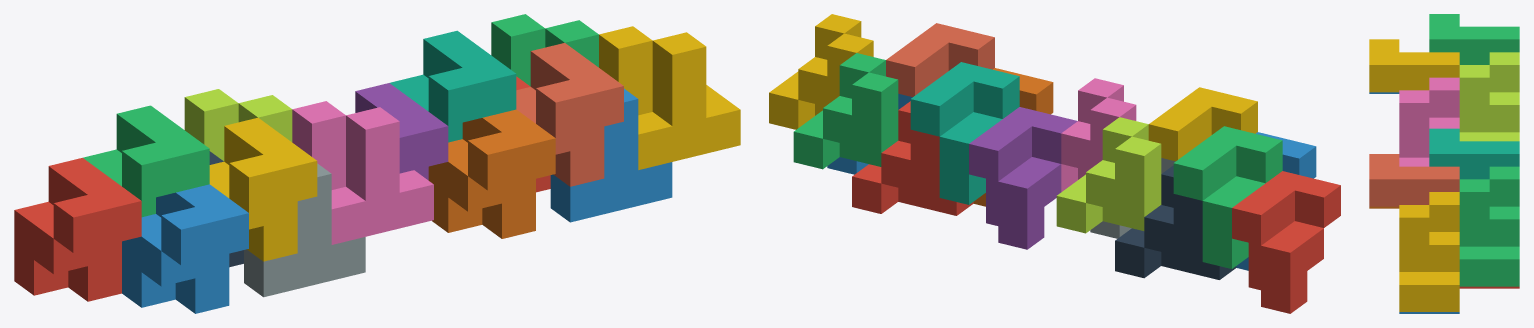
File: tiling.obj
3 renders of one model, left to right at view 1: azimuth 30°, elevation 25°; view 2: azimuth 150°, elevation 25°; view 3: azimuth 270°, elevation 25°, orthographic. The views are drawn at different scales.
Parts seen in each view (by area): view 1: copy_1_domain_1, copy_2_domain_8, copy_2_domain_4, copy_1_domain_2, copy_1_domain_6, copy_1_domain_8, copy_1_domain_4, copy_1_domain_7, copy_1_domain_3, copy_2_domain_6, copy_2_domain_2, copy_1_domain_5 (+2 smaller); view 2: copy_1_domain_1, copy_1_domain_5, copy_1_domain_7, copy_1_domain_3, copy_2_domain_3, copy_2_domain_7, copy_2_domain_5, copy_2_domain_1, copy_2_domain_8, copy_1_domain_4, copy_1_domain_8, copy_2_domain_4 (+4 smaller); view 3: copy_2_domain_7, copy_2_domain_8, copy_2_domain_3, copy_2_domain_4, copy_1_domain_4, copy_1_domain_8, copy_1_domain_3, copy_1_domain_7, copy_2_domain_5, copy_2_domain_6.
Part boxes in pixels (x1,y1,x2,y2): copy_1_domain_1: (14,158,141,301); copy_2_domain_8: (599,26,740,169); copy_2_domain_4: (292,101,433,244); copy_1_domain_2: (122,184,248,313); copy_1_domain_6: (428,109,555,238); copy_1_domain_8: (516,43,623,186); copy_1_domain_4: (209,117,317,261); copy_1_domain_7: (390,30,516,142); copy_1_domain_3: (83,105,209,217); copy_2_domain_6: (550,88,672,222); copy_2_domain_2: (244,163,365,297); copy_1_domain_5: (355,83,448,180); copy_1_domain_1: (1232,171,1340,313); copy_1_domain_5: (969,107,1077,249); copy_1_domain_7: (910,62,1019,204); copy_1_domain_3: (1173,126,1282,268); copy_2_domain_3: (1056,117,1161,233); copy_2_domain_7: (793,53,898,169); copy_2_domain_5: (852,101,973,215); copy_2_domain_1: (1115,165,1236,279); copy_2_domain_8: (769,14,873,129); copy_1_domain_4: (1148,87,1257,161); copy_1_domain_8: (886,23,994,96); copy_2_domain_4: (1061,78,1136,191); copy_2_domain_7: (1459,166,1519,286); copy_2_domain_8: (1399,192,1459,311); copy_2_domain_3: (1459,52,1519,141); copy_2_domain_4: (1399,77,1459,166); copy_1_domain_4: (1369,39,1459,92); copy_1_domain_8: (1369,154,1459,206); copy_1_domain_3: (1429,14,1519,64); copy_1_domain_7: (1429,128,1519,179); copy_2_domain_5: (1459,286,1519,288); copy_2_domain_6: (1399,312,1459,313).
Size of the model in its own units: 19 by 4 by 5.
